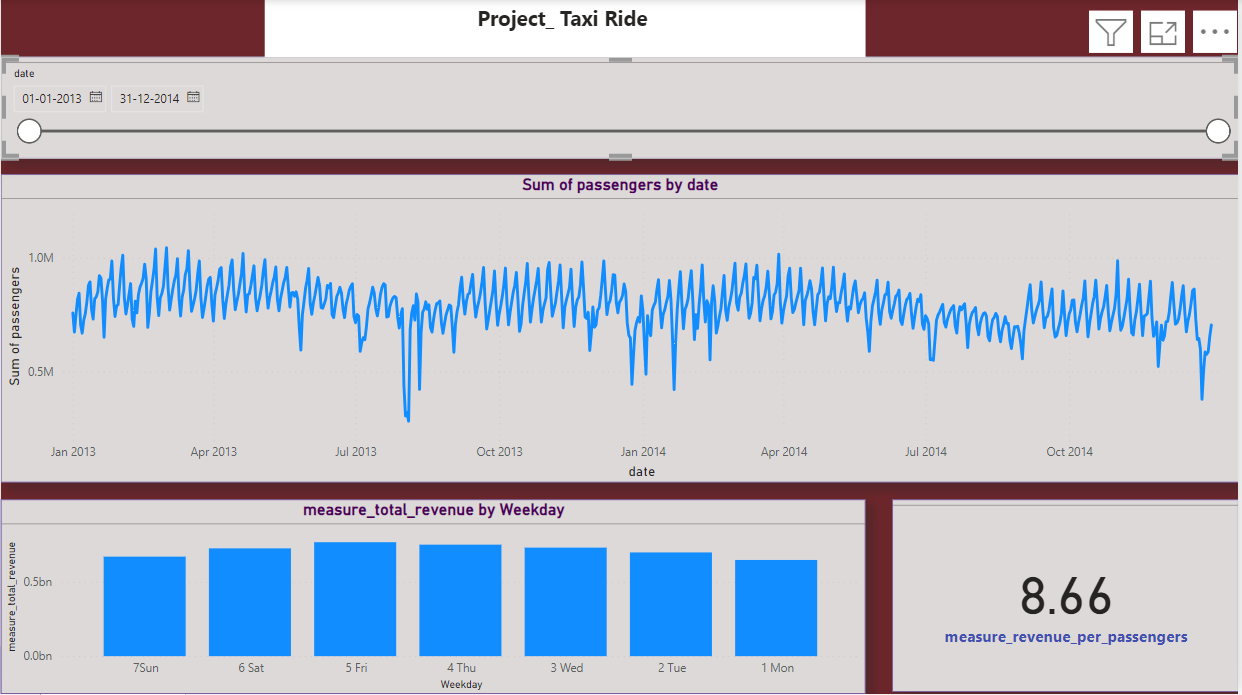

The page's visual inventory and layout, read from the dashboard file:
{"tool":"powerbi","page":{"name":"Page 1","canvas":[1280,720],"ordinal":0},"visuals":[{"type":"lineChart","fields":{"Y":["Sum(taxi-model.passengers)"],"Category":["taxi-model.date"]},"box":[0,180.3,1280.9,319.1],"z":0},{"type":"clusteredColumnChart","fields":{"Category":["Weekdays.Weekday"],"Y":["taxi-model.measure_total_revenue"]},"box":[0,517.9,894.8,201.2],"z":1},{"type":"card","fields":{"Values":["taxi-model.measure_revenue_per_passengers"]},"box":[922.5,517.9,358.4,198.8],"z":2},{"type":"slicer","fields":{"Values":["taxi-model.date"]},"box":[0,60.1,1280.9,99.4],"z":3},{"type":"textbox","box":[272.8,0,622,60.1],"z":4}]}

Visuals, with their boxes in screenshot pixels (x1, y1, x2, y2):
lineChart - Sum(taxi-model.passengers) x taxi-model.date: (10, 175, 1230, 479)
clusteredColumnChart - Weekdays.Weekday x taxi-model.measure_total_revenue: (10, 497, 862, 688)
card - taxi-model.measure_revenue_per_passengers: (888, 497, 1230, 686)
slicer - taxi-model.date: (10, 60, 1230, 155)
textbox: (270, 3, 862, 60)
